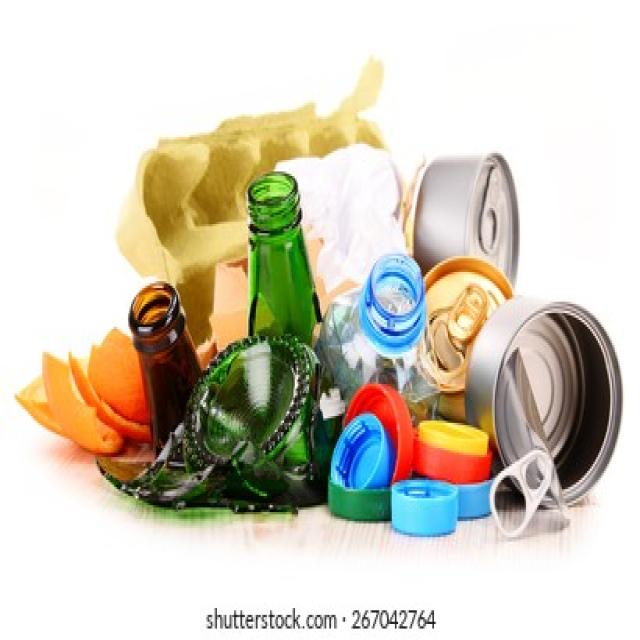glass: (168, 254, 302, 480)
metal: (500, 329, 610, 494)
